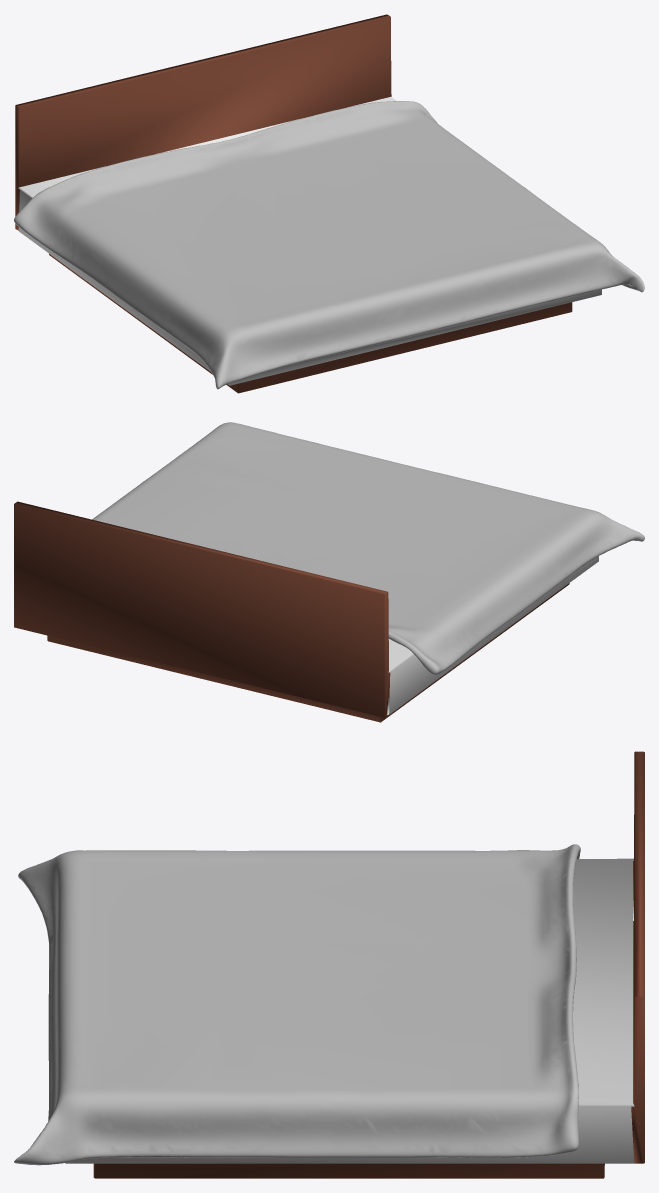
Rendered from bed.glb.
3 renders of one model, top to bottom at view 1: azimuth 30°, elevation 25°; view 2: azimuth 150°, elevation 25°; view 3: azimuth 270°, elevation 25°, orthographic. The views are drawn at different scales.
Parts seen in each view (by area): view 1: sheet, Cube.004; view 2: sheet, Cube.004; view 3: sheet, Cube.004.
Part boxes in pixels (x1,y1,x2,y2): sheet: [14, 101, 644, 389]; Cube.004: [15, 14, 601, 393]; sheet: [92, 422, 644, 675]; Cube.004: [14, 501, 598, 722]; sheet: [14, 844, 580, 1165]; Cube.004: [65, 751, 644, 1178].
Size of the model in its own units: 3.01 by 0.9733 by 2.85.
